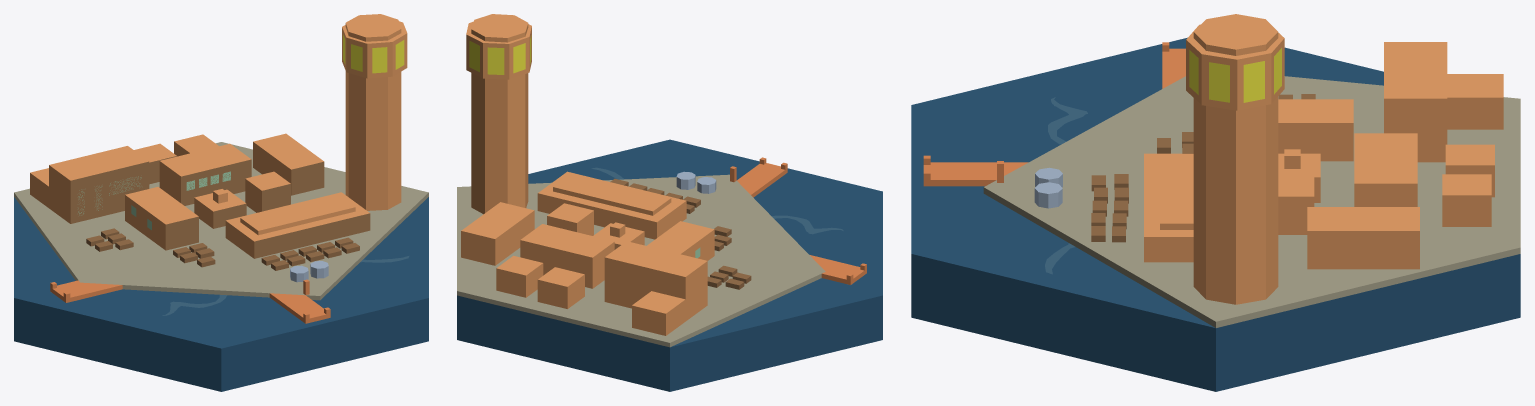
The picture shows the model from 3 angles, left to right: view 1: azimuth 30°, elevation 25°; view 2: azimuth 150°, elevation 25°; view 3: azimuth 270°, elevation 25°; orthographic projection. The views are drawn at different scales.
Visible parts, largest first — view 1: _TILE (×2), group_0 (×21), group_1 (×2), group_2; view 2: _TILE (×2), group_0 (×13), group_1 (×2), group_2; view 3: _TILE (×2), group_0 (×14), group_1 (×2), group_2, group_4.
Boxes of the visible parts, left/top/right/bottom form: _TILE (×2): left=14, top=197, right=428, bottom=391; group_0 (×21): left=30, top=14, right=407, bottom=258; group_1 (×2): left=14, top=142, right=428, bottom=302; group_2: left=269, top=293, right=330, bottom=323; _TILE (×2): left=457, top=139, right=882, bottom=391; group_0 (×13): left=461, top=14, right=714, bottom=335; group_1 (×2): left=457, top=174, right=866, bottom=347; group_2: left=737, top=157, right=787, bottom=197; _TILE (×2): left=911, top=37, right=1520, bottom=391; group_0 (×14): left=1144, top=14, right=1503, bottom=304; group_1 (×2): left=983, top=42, right=1520, bottom=327; group_2: left=923, top=155, right=1028, bottom=186; group_4: left=1034, top=182, right=1062, bottom=208.
Size of the model in its own units: 39.37 by 34.1 by 20.08.
